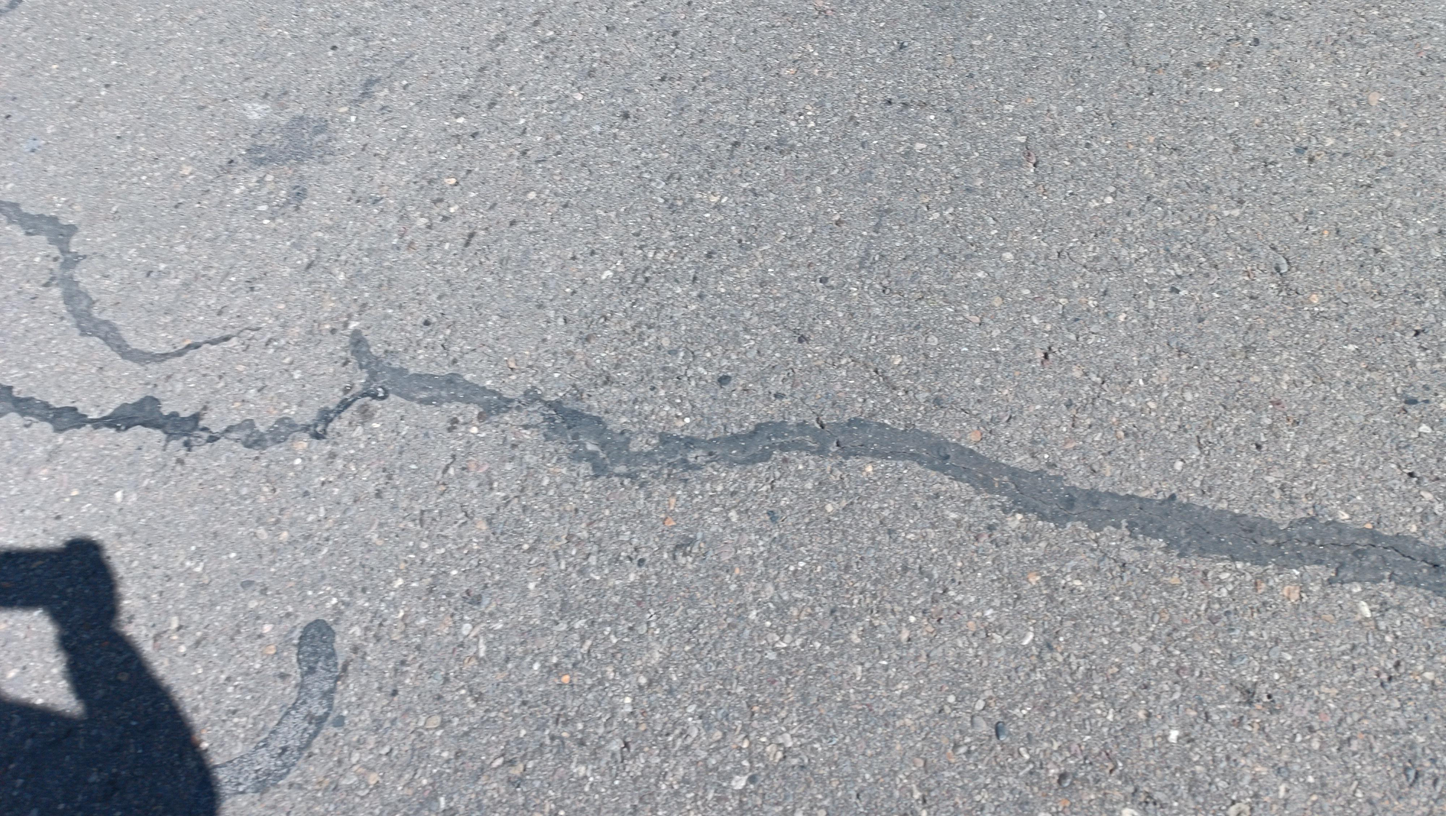PARCHE: (216, 619, 338, 794), (244, 115, 327, 165)
